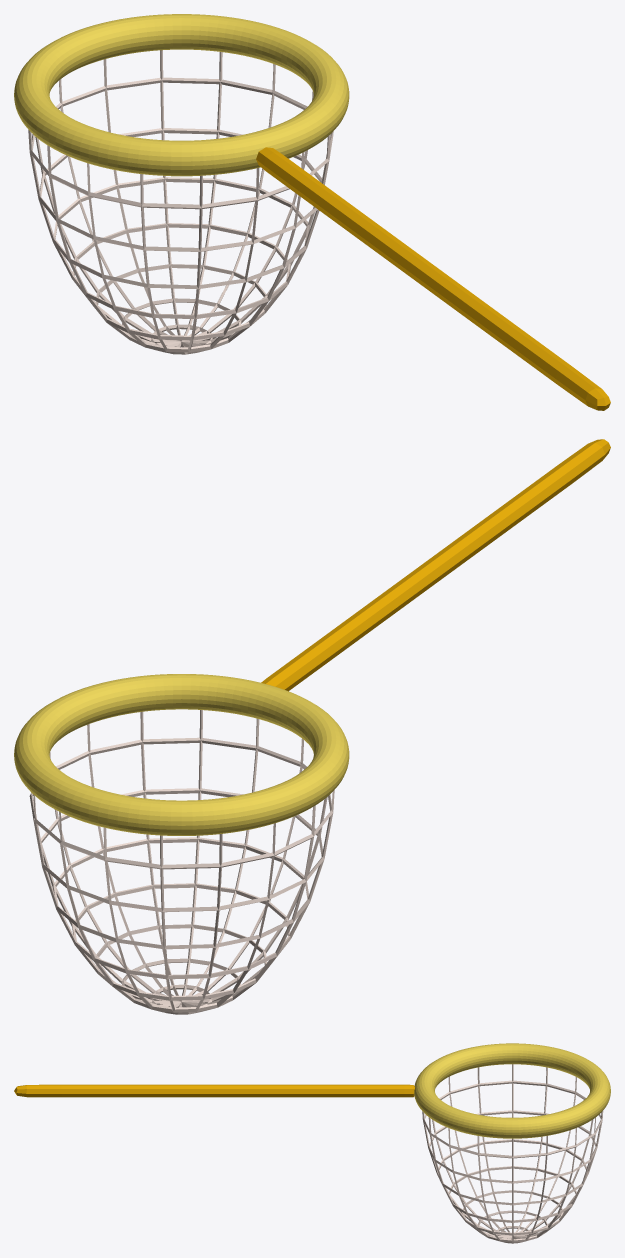
Rendered from ButterflyCollector.fbx.
The picture shows the model from 3 angles, top to bottom: view 1: azimuth 30°, elevation 25°; view 2: azimuth 150°, elevation 25°; view 3: azimuth 270°, elevation 25°; orthographic projection. The views are drawn at different scales.
Parts seen in each view (by area): view 1: Cube, Sphere, Cube.001; view 2: Cube, Sphere, Cube.001; view 3: Cube, Sphere, Cube.001.
Boxes of the visible parts, bbox=[...] form: Cube: bbox=[14, 14, 349, 176]; Sphere: bbox=[28, 50, 333, 354]; Cube.001: bbox=[256, 147, 610, 410]; Cube: bbox=[14, 674, 349, 835]; Sphere: bbox=[29, 710, 334, 1014]; Cube.001: bbox=[261, 439, 610, 691]; Cube: bbox=[414, 1043, 610, 1138]; Sphere: bbox=[422, 1064, 603, 1243]; Cube.001: bbox=[14, 1084, 414, 1097].
Bounding box in the file's own units: 431 × 379 × 1305.
